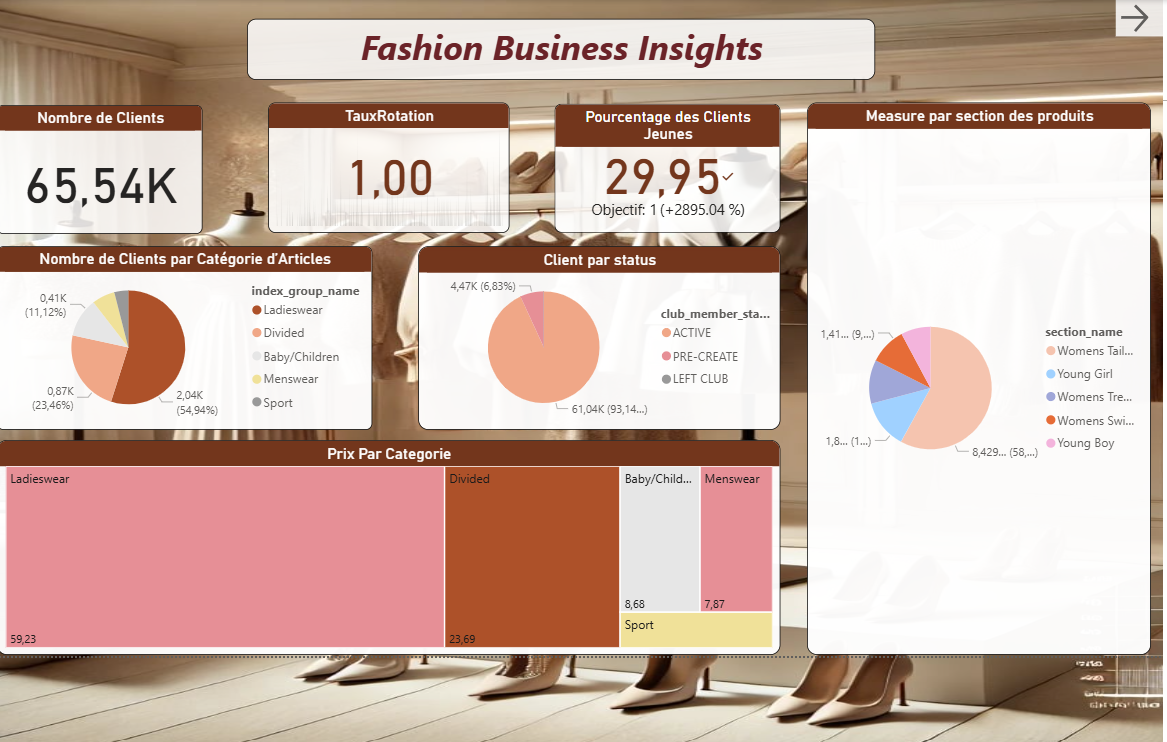

The page's visual inventory and layout, read from the dashboard file:
{"tool":"powerbi","page":{"name":"Page 1","canvas":[1280,720],"ordinal":0},"visuals":[{"type":"kpi","fields":{"Indicator":["TAB_Faittt.Moyenne"],"TrendLine":["Dim_customers.customer_id"]},"box":[0,115.6,226,141.6],"z":0},{"type":"kpi","fields":{"Indicator":["TAB_Faittt.TauxRotation"],"TrendLine":["dim_Article.article_id"]},"box":[297.4,113,264.9,142.9],"z":1000},{"type":"pieChart","title":"Nombre de Clients par Catégorie d’Articles","fields":{"Category":["dim_Article.index_group_name"],"Y":["CountNonNull(TAB_Faittt.customer_id)"]},"box":[0,270.1,411.7,201.3],"z":2000},{"type":"pieChart","fields":{"Category":["Dim_customers.club_member_status"],"Y":["CountNonNull(Dim_customers.customer_id)"]},"box":[462.3,270.1,397.4,201.3],"z":3000},{"type":"kpi","title":"Pourcentage des Clients Jeunes par Article","fields":{"Indicator":["TAB_Faittt.Pourcentage Clients 18-25"],"Goal":["CountNonNull(TAB_Faittt.article_id)"],"TrendLine":["TAB_Faittt.article_id"]},"box":[611.7,114.3,248.1,141.6],"z":4000},{"type":"pieChart","fields":{"Y":["TAB_Faittt.Measure"],"Category":["dim_Article.section_name"]},"box":[889.6,113,377.9,606.5],"z":5000},{"type":"treemap","fields":{"Values":["TAB_Faittt.Measure"],"Group":["dim_Article.index_group_name"]},"box":[0,483.1,859.7,236.4],"z":6000},{"type":"textbox","box":[274,20.8,689.6,67.5],"z":7000},{"type":"actionButton","box":[1228.6,0,51.9,40.3],"z":8000}]}

Visuals, with their boxes in screenshot pixels (x1, y1, x2, y2):
kpi - TAB_Faittt.Moyenne x Dim_customers.customer_id: 6,104,209,231
kpi - TAB_Faittt.TauxRotation x dim_Article.article_id: 273,102,512,230
"Nombre de Clients par Catégorie d’Articles" pieChart: 6,243,376,424
pieChart - Dim_customers.club_member_status x CountNonNull(Dim_customers.customer_id): 422,243,779,424
"Pourcentage des Clients Jeunes par Article" kpi: 556,103,779,230
pieChart - TAB_Faittt.Measure x dim_Article.section_name: 806,102,1146,647
treemap - TAB_Faittt.Measure x dim_Article.index_group_name: 6,434,779,647
textbox: 252,19,872,79
actionButton: 1111,0,1157,36
